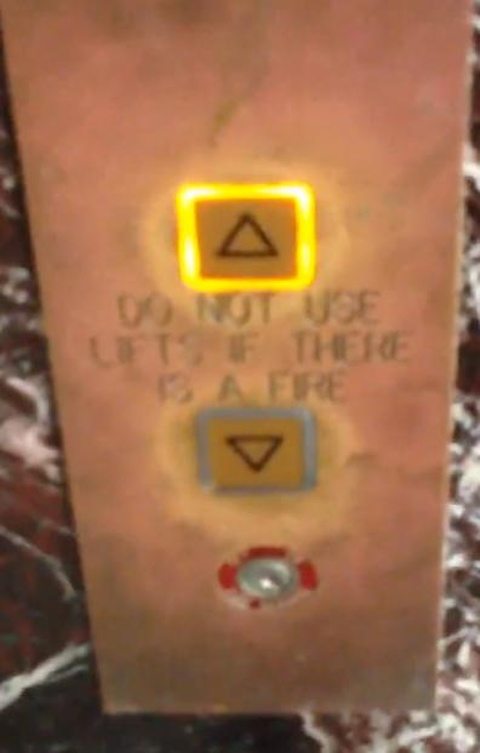down: (189, 402, 318, 500)
keyhole: (216, 538, 318, 616)
up: (174, 179, 321, 295)
